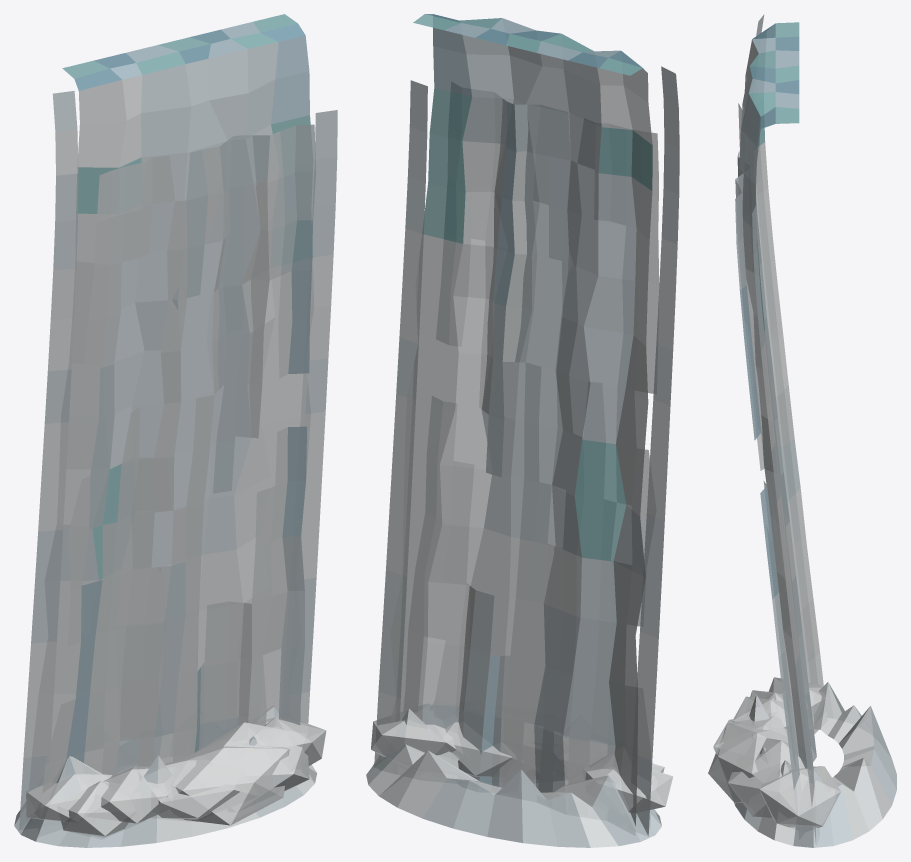
File: wf_fall_mid.glb
3 views of the same model, side by side, from view 1: azimuth 30°, elevation 25°; view 2: azimuth 150°, elevation 25°; view 3: azimuth 270°, elevation 25° (orthographic). The views are drawn at different scales.
Parts seen in each view (by area): view 1: wf_fall_mid; view 2: wf_fall_mid; view 3: wf_fall_mid.
Boxes of the visible parts, left/top/right/bottom form: wf_fall_mid: left=14, top=14, right=337, bottom=847; wf_fall_mid: left=366, top=14, right=679, bottom=847; wf_fall_mid: left=708, top=14, right=896, bottom=847.
Bounding box in the file's own units: 6.74 × 16.65 × 3.96.
